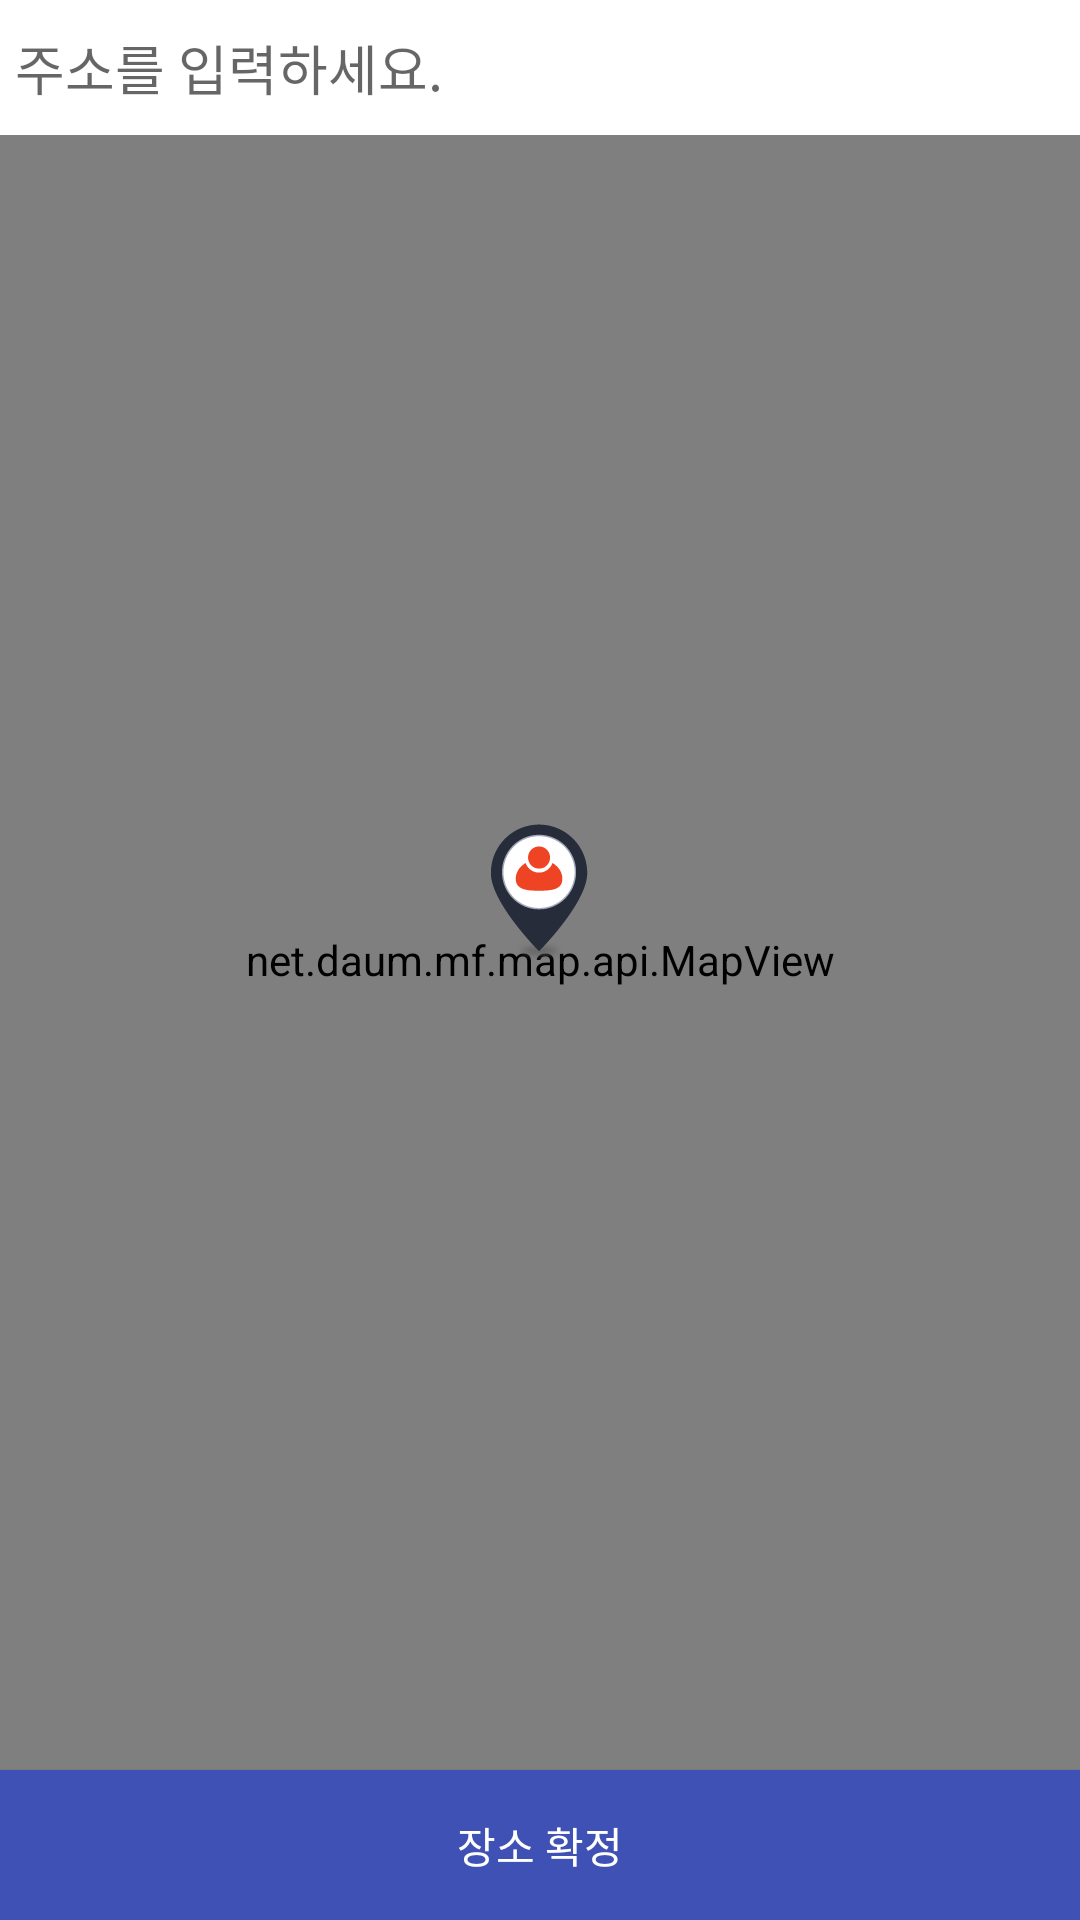

Named icons in this screenshot (1080*1920) and their centers, (x=x, y=y):
map pin: (x=539, y=887)
